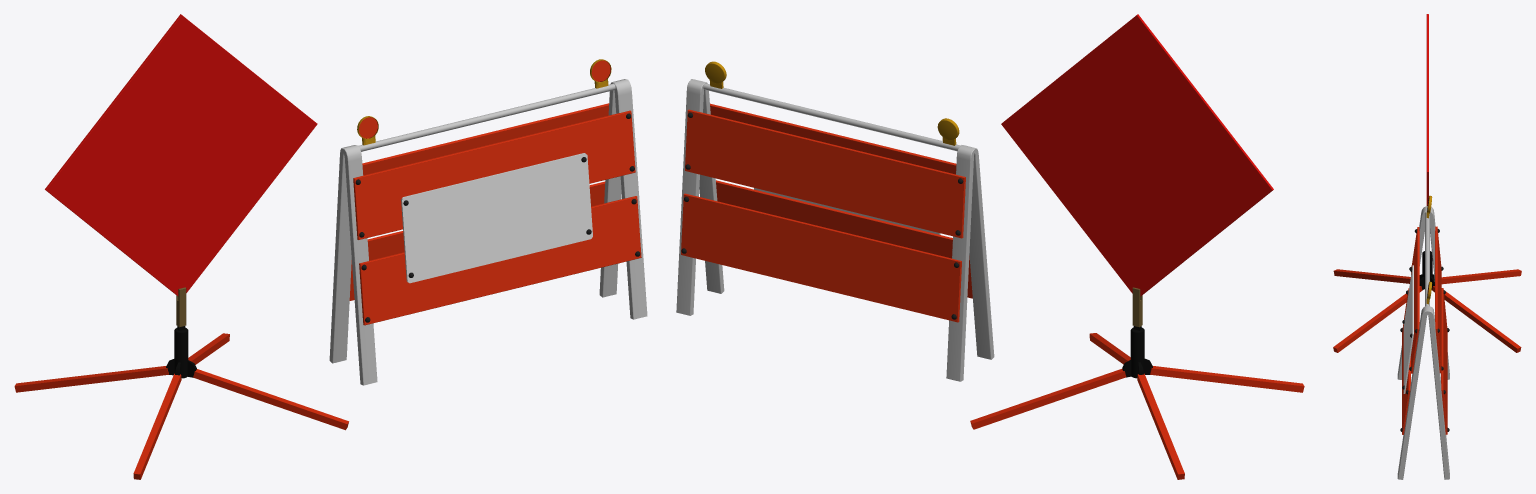
Rendered from Señales.fbx.
3 renders of one model, left to right at view 1: azimuth 30°, elevation 25°; view 2: azimuth 150°, elevation 25°; view 3: azimuth 270°, elevation 25°, orthographic. The views are drawn at different scales.
Parts seen in each view (by area): view 1: polySurface35, señal; view 2: polySurface35, señal; view 3: polySurface35, señal.
Boxes of the visible parts, x1=… form: polySurface35: x1=329, y1=59, x2=647, y2=385; señal: x1=14, y1=14, x2=348, y2=479; polySurface35: x1=676, y1=61, x2=994, y2=381; señal: x1=970, y1=14, x2=1304, y2=479; polySurface35: x1=1397, y1=195, x2=1449, y2=479; señal: x1=1333, y1=14, x2=1521, y2=352.
Size of the model in its own units: 0.6645 by 0.4329 by 0.2462.
